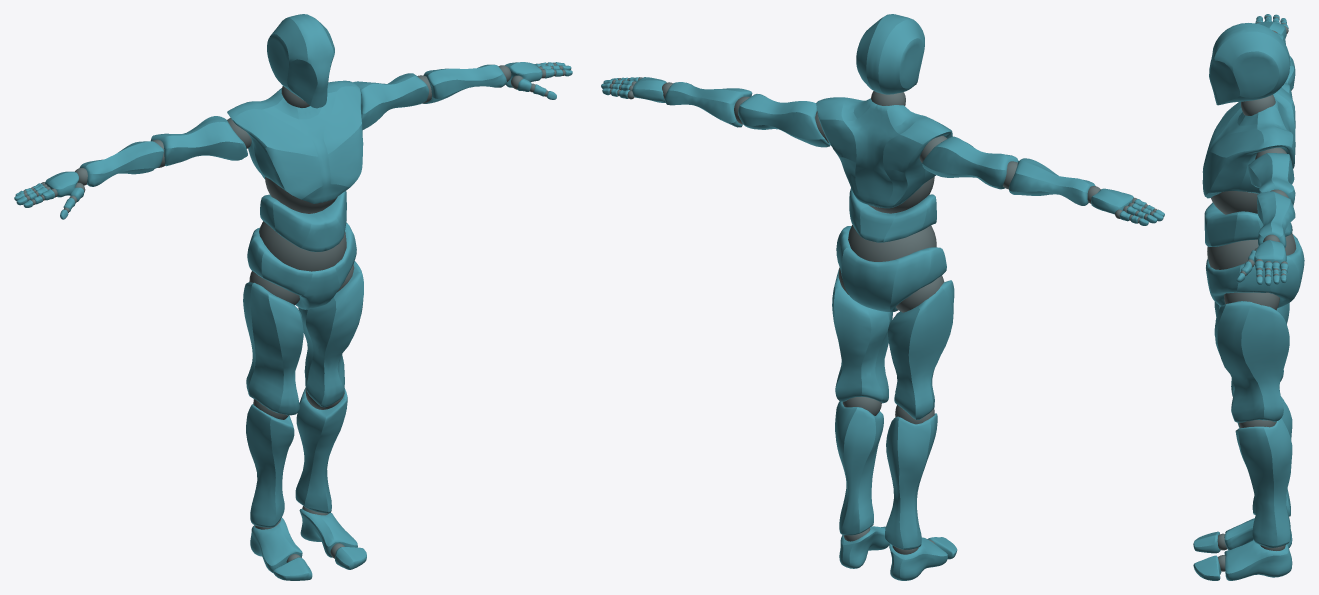
File: Y_Bot_Base.fbx
3 renders of one model, left to right at view 1: azimuth 30°, elevation 25°; view 2: azimuth 150°, elevation 25°; view 3: azimuth 270°, elevation 25°, orthographic.
Visible parts, largest first — view 1: Plexo, Muslo_2, Muslo, Cabeza, Tibia_2, Tibia, Cadera, Cintura, Humero_2, Humero, Cubito_2, Cadera_2 (+4 smaller); view 2: Plexo, Muslo_2, Muslo, Cadera, Tibia_2, Tibia, Cabeza, Humero_2, Humero, Cintura, Cubito_2, Cubito (+4 smaller); view 3: Muslo, Plexo, Cabeza, Tibia, Cadera, Pie, Cintura, Humero, Cubito, Cadera_2, Plexo_2, Pie_2 (+10 smaller).
Part boxes in pixels (box(x1,y1,x2,y2)): Plexo: box(227, 80, 363, 203); Muslo_2: box(243, 282, 303, 415); Muslo: box(298, 261, 363, 407); Cabeza: box(267, 14, 334, 108); Tibia_2: box(246, 404, 294, 527); Tibia: box(295, 388, 347, 513); Cadera: box(247, 222, 356, 309); Cintura: box(260, 191, 346, 252); Humero_2: box(150, 116, 247, 166); Humero: box(353, 73, 428, 129); Cubito_2: box(79, 141, 163, 186); Cadera_2: box(259, 221, 346, 271); Plexo: box(816, 97, 952, 208); Muslo_2: box(888, 280, 954, 419); Muslo: box(832, 268, 892, 403); Cadera: box(836, 226, 946, 312); Tibia_2: box(885, 413, 937, 549); Tibia: box(835, 401, 883, 535); Cabeza: box(856, 14, 924, 94); Humero_2: box(922, 136, 1018, 189); Humero: box(738, 94, 830, 147); Cintura: box(849, 188, 936, 242); Cubito_2: box(1009, 158, 1095, 205); Cubito: box(665, 82, 752, 127); Muslo: box(1214, 301, 1289, 422); Plexo: box(1202, 87, 1295, 198); Cabeza: box(1209, 23, 1290, 105); Tibia: box(1235, 418, 1292, 547); Cadera: box(1206, 234, 1304, 308); Pie: box(1224, 540, 1292, 580); Cintura: box(1204, 202, 1292, 246); Humero: box(1248, 153, 1295, 205); Cubito: box(1257, 191, 1295, 247); Cadera_2: box(1207, 233, 1296, 269); Plexo_2: box(1211, 191, 1258, 214); Pie_2: box(1224, 518, 1292, 550).
Size of the model in its own units: 194 by 180 by 33.88.
